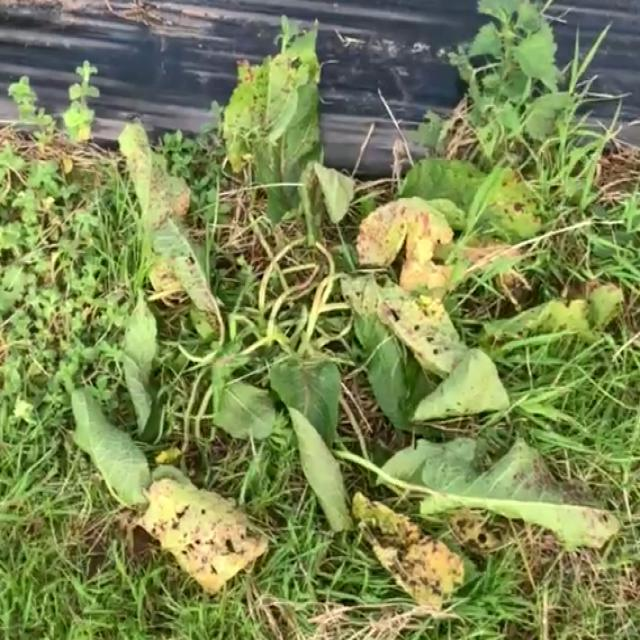organic waste: (61, 54, 634, 582)
